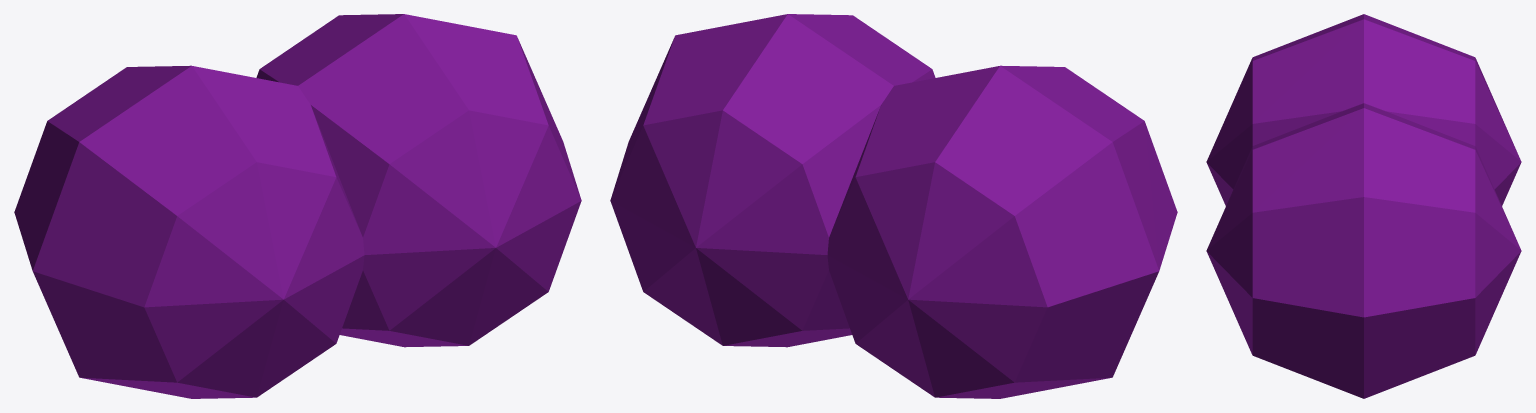
Rendered from spider_poison_sac.obj.
3 renders of one model, left to right at view 1: azimuth 30°, elevation 25°; view 2: azimuth 150°, elevation 25°; view 3: azimuth 270°, elevation 25°, orthographic. The views are drawn at different scales.
Bounding box in the file's own units: 1 × 0.6 × 0.6.
